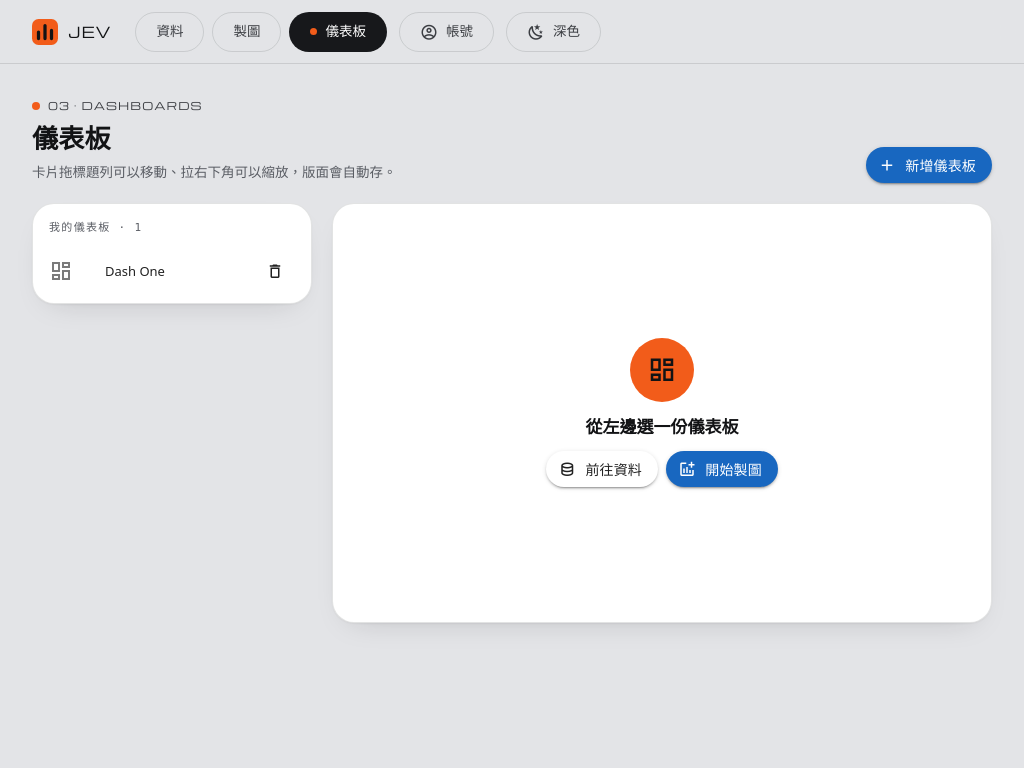
it: App › delete icon button has an accessible name, is big enough to hit, and opens a confirm dialog instead of deleting immediately
expect the icon with class "mdi-delete-outline" is shown: met, box [266,262,284,280]
Click the button named "刪除儀表板": {"x": 275, "y": 271} [255,251,295,291]
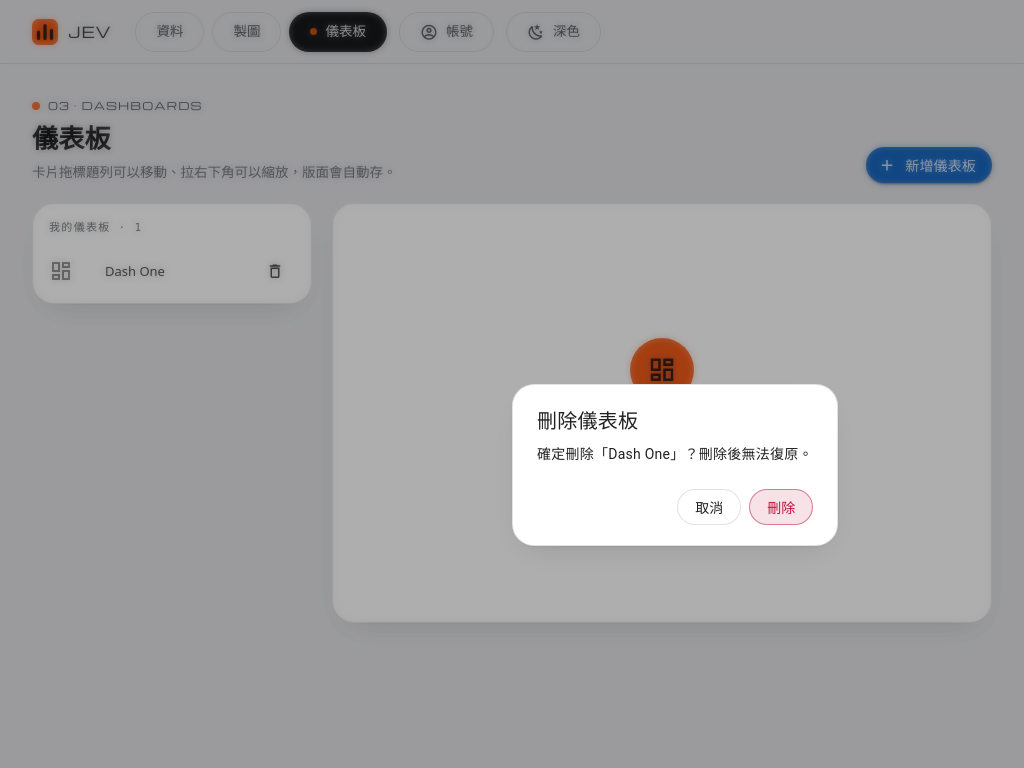
expect the text "確定刪除「Dash One」？刪除後無法復原。" is shown: met, box [537,446,813,462]
expect the text "刪除儀表板" is shown: met, box [537,409,638,433]
